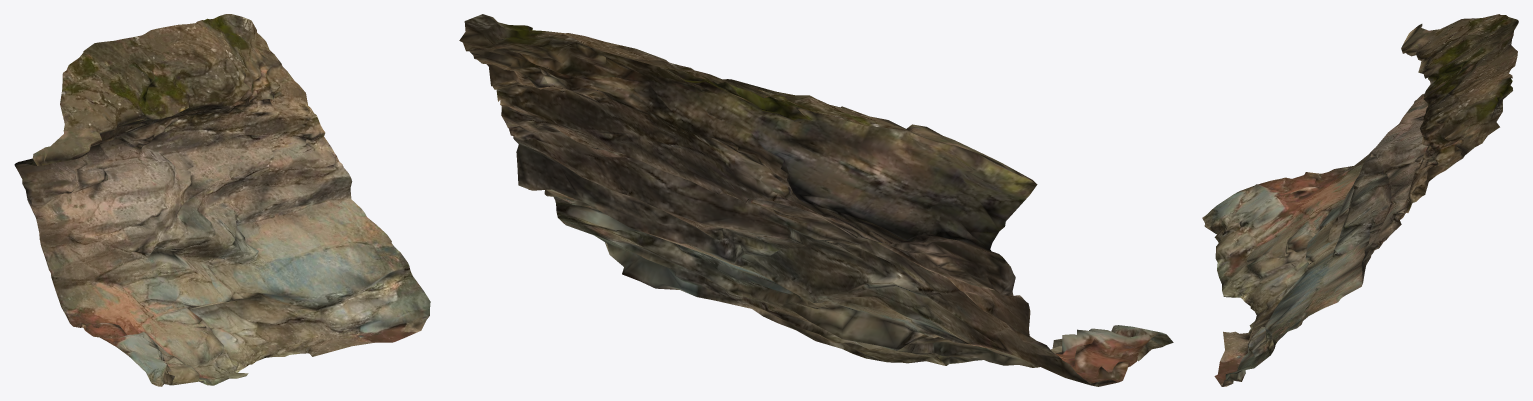
The model's file is rock_face_01.glb.
3 views of the same model, side by side, from view 1: azimuth 30°, elevation 25°; view 2: azimuth 150°, elevation 25°; view 3: azimuth 270°, elevation 25° (orthographic). The views are drawn at different scales.
Parts seen in each view (by area): view 1: rock_face_01; view 2: rock_face_01; view 3: rock_face_01.
Part boxes in pixels (x1,y1,x2,y2): rock_face_01: (14,14,430,386); rock_face_01: (459,14,1173,386); rock_face_01: (1202,14,1518,386).
Bounding box in the file's own units: 4.94 × 3.56 × 3.82.
Materials: 1 (1 with a texture image).
